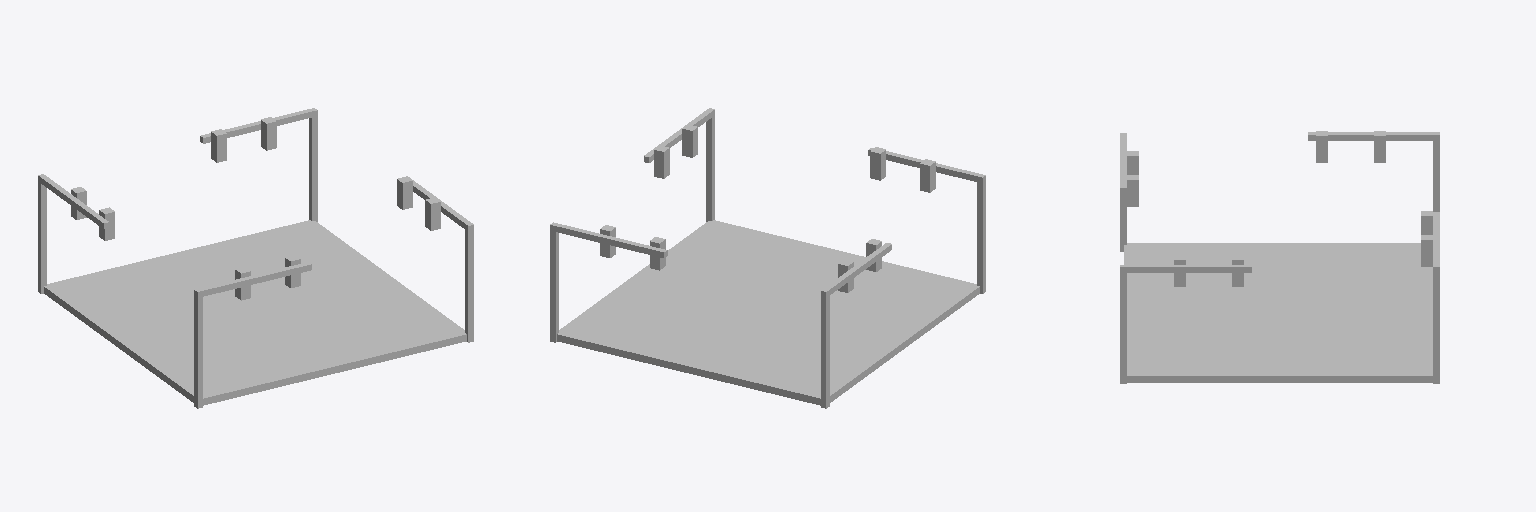
File: inter2222.obj
The picture shows the model from 3 angles: view 1: azimuth 30°, elevation 25°; view 2: azimuth 150°, elevation 25°; view 3: azimuth 270°, elevation 25°; orthographic projection.
Parts seen in each view (by area): view 1: 2222_intersection_Plane.001, 2222stoplights_Cube.013; view 2: 2222_intersection_Plane.001, 2222stoplights_Cube.013; view 3: 2222_intersection_Plane.001, 2222stoplights_Cube.013.
Boxes of the visible parts, <box> form: 2222_intersection_Plane.001: <box>44,220,466,405</box>; 2222stoplights_Cube.013: <box>38,108,473,408</box>; 2222_intersection_Plane.001: <box>557,220,979,405</box>; 2222stoplights_Cube.013: <box>550,108,985,408</box>; 2222_intersection_Plane.001: <box>1124,243,1432,382</box>; 2222stoplights_Cube.013: <box>1120,131,1439,383</box>.
Size of the model in its own units: 4.08 by 1.71 by 4.08.